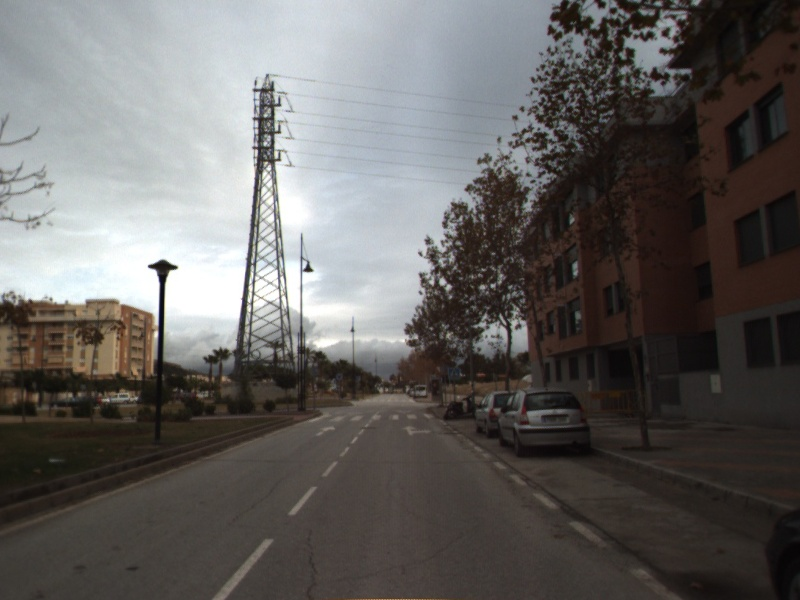STRAIGHT: (313, 423, 338, 438)
STRAIGHT_RIGHT: (400, 424, 433, 437)
